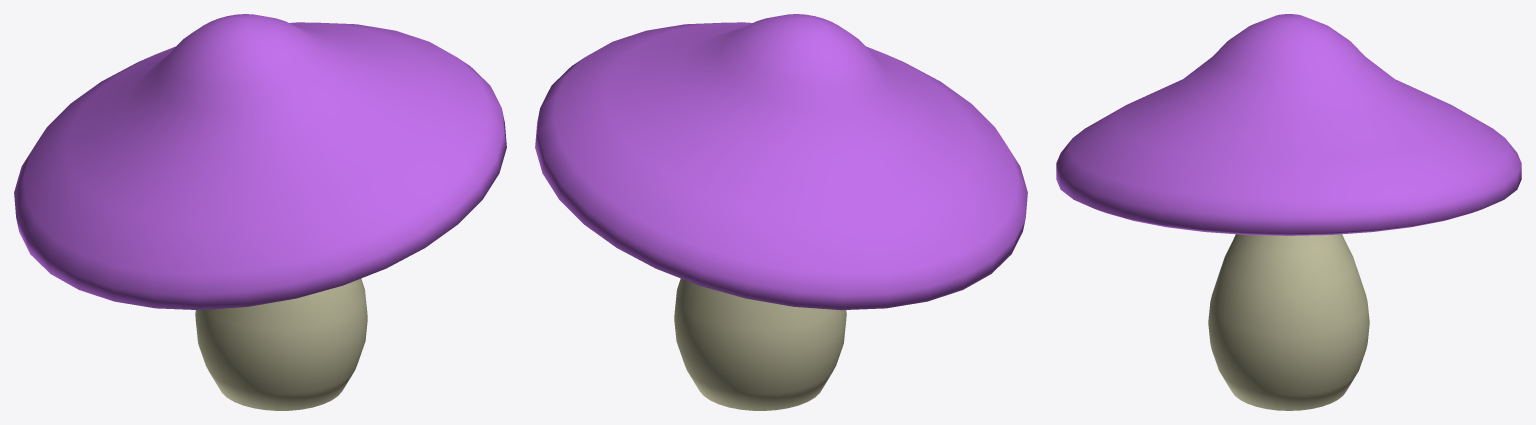
File: giantMushroom.fbx
The picture shows the model from 3 angles, left to right: view 1: azimuth 30°, elevation 25°; view 2: azimuth 150°, elevation 25°; view 3: azimuth 270°, elevation 25°; orthographic projection. The views are drawn at different scales.
Parts seen in each view (by area): view 1: Giant Mushroom; view 2: Giant Mushroom; view 3: Giant Mushroom.
Part boxes in pixels (x1,y1,x2,y2): Giant Mushroom: (14, 14, 506, 410); Giant Mushroom: (535, 14, 1027, 410); Giant Mushroom: (1056, 14, 1521, 410).
Bounding box in the file's own units: 583 × 488 × 591.
